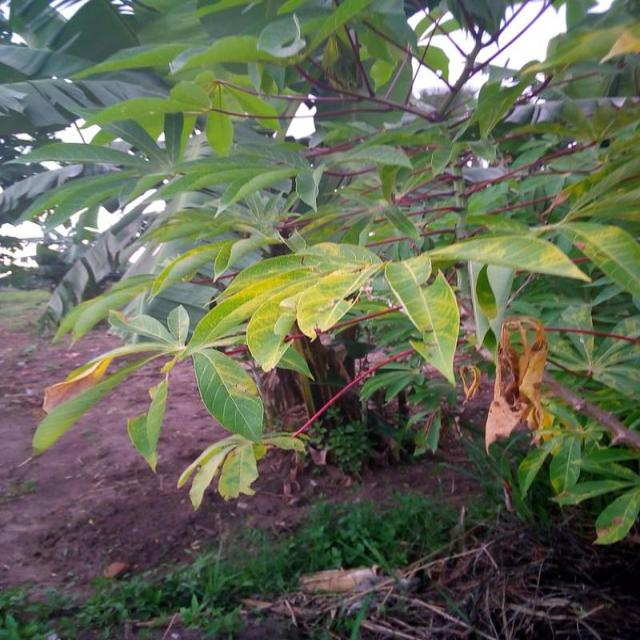cassava leaf: (2, 0, 638, 537), (384, 253, 462, 387), (192, 345, 266, 446)
